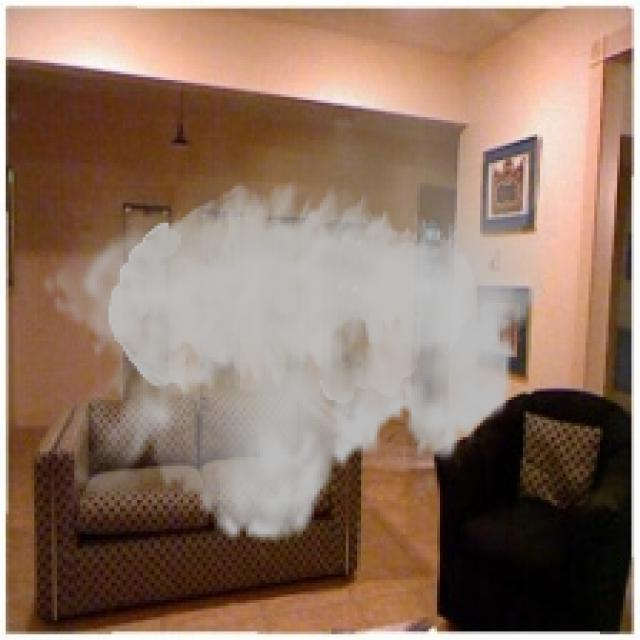Smoke: (40, 34, 557, 563)
